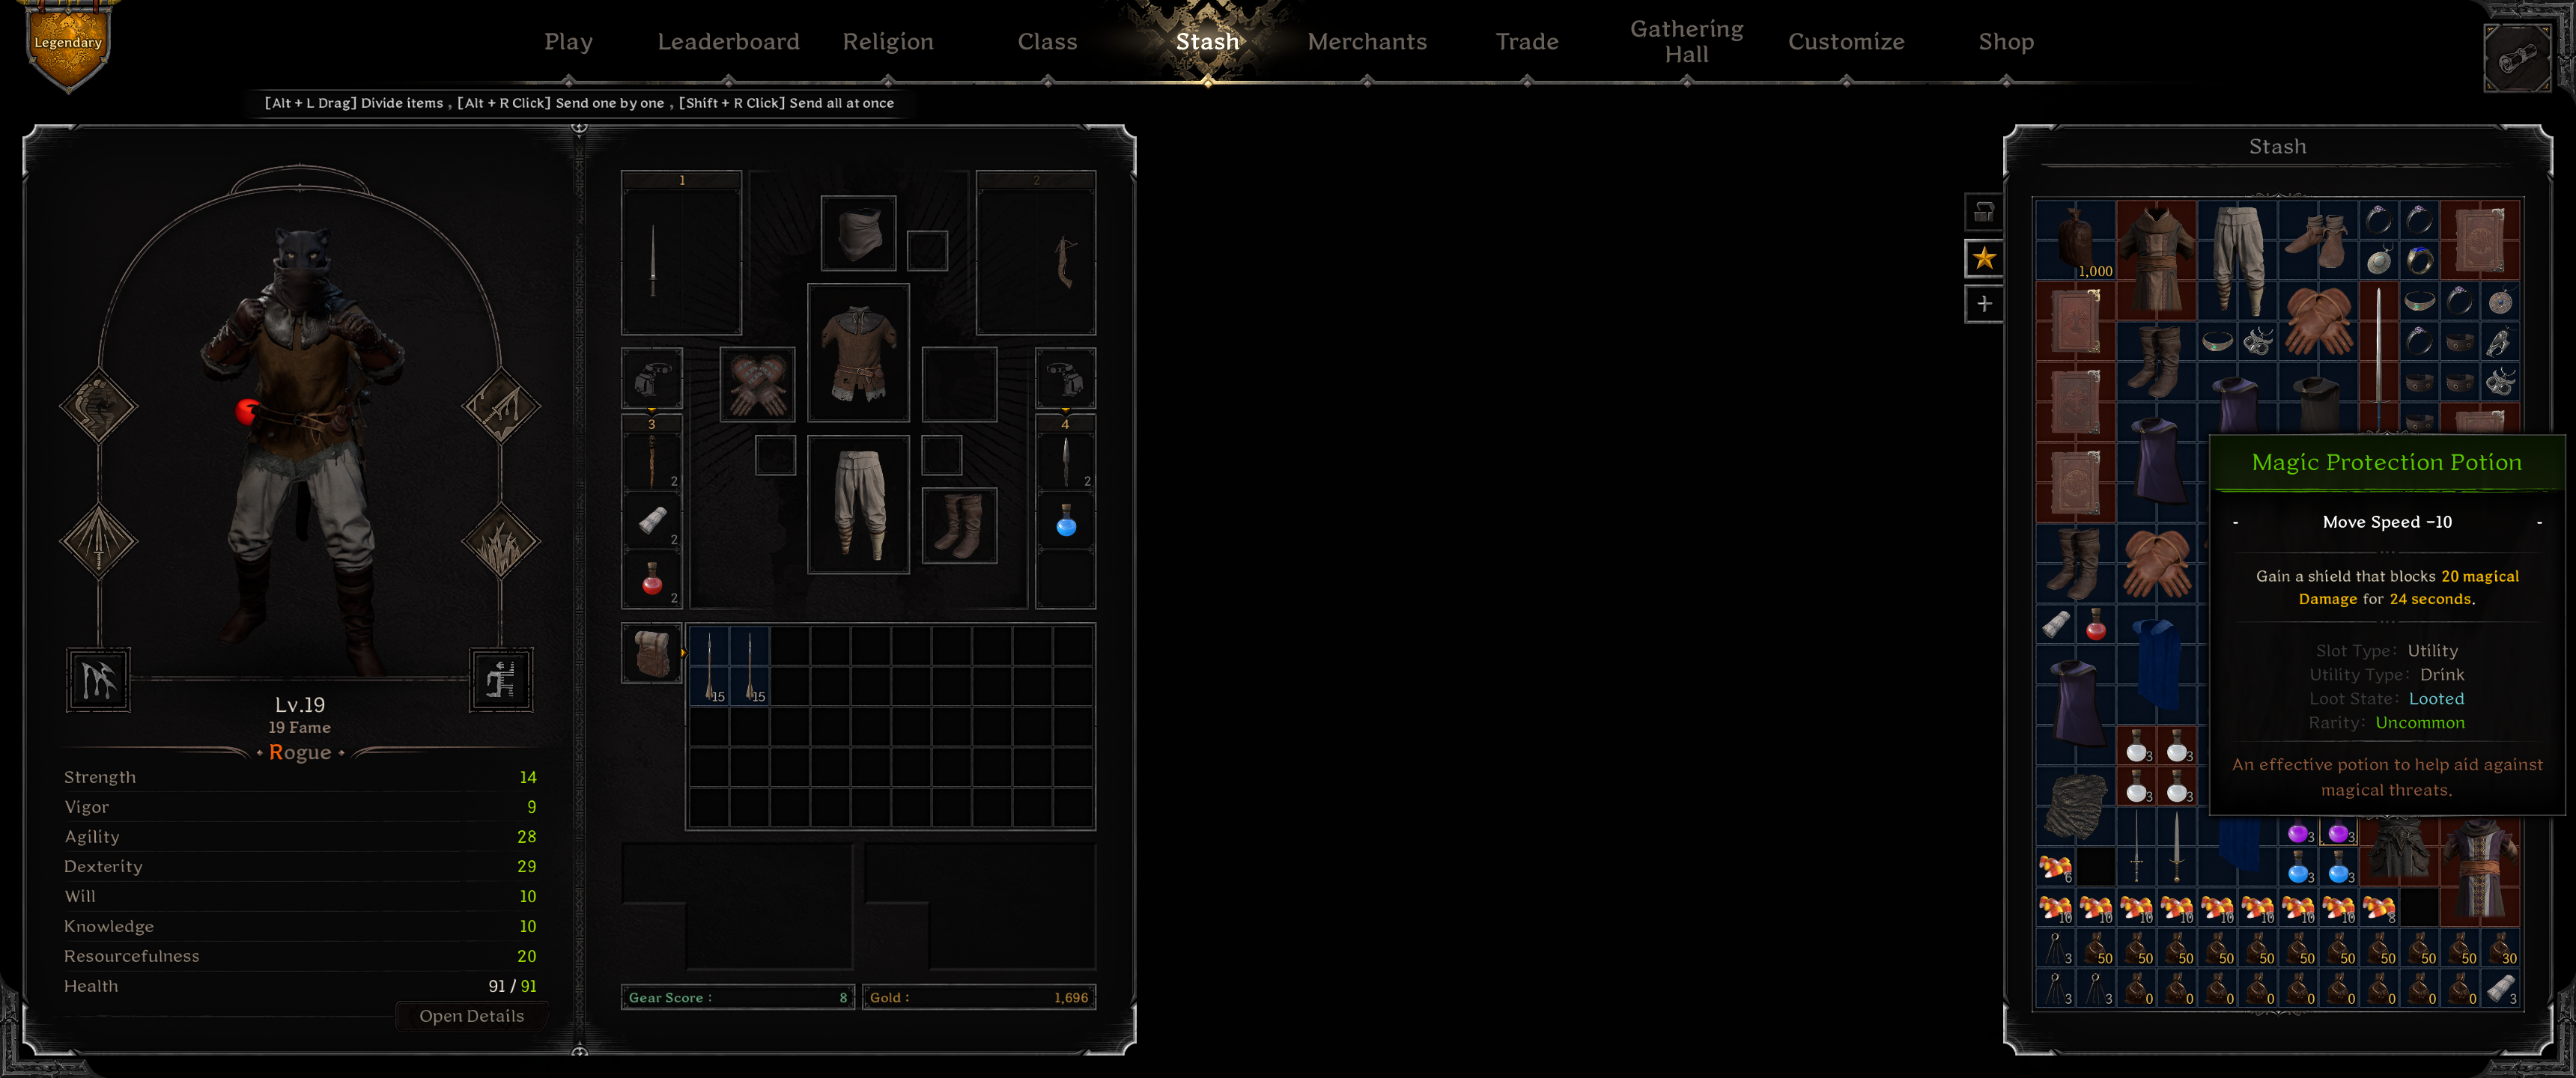Tooltip: (2208, 432, 2568, 817)
